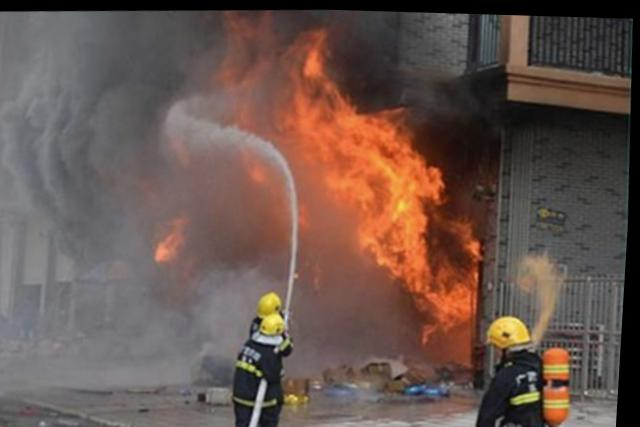fire: (347, 103, 433, 252), (285, 87, 357, 180), (427, 273, 479, 324), (387, 249, 432, 289), (293, 28, 327, 78), (154, 223, 181, 262), (457, 221, 485, 257), (423, 158, 446, 193)
